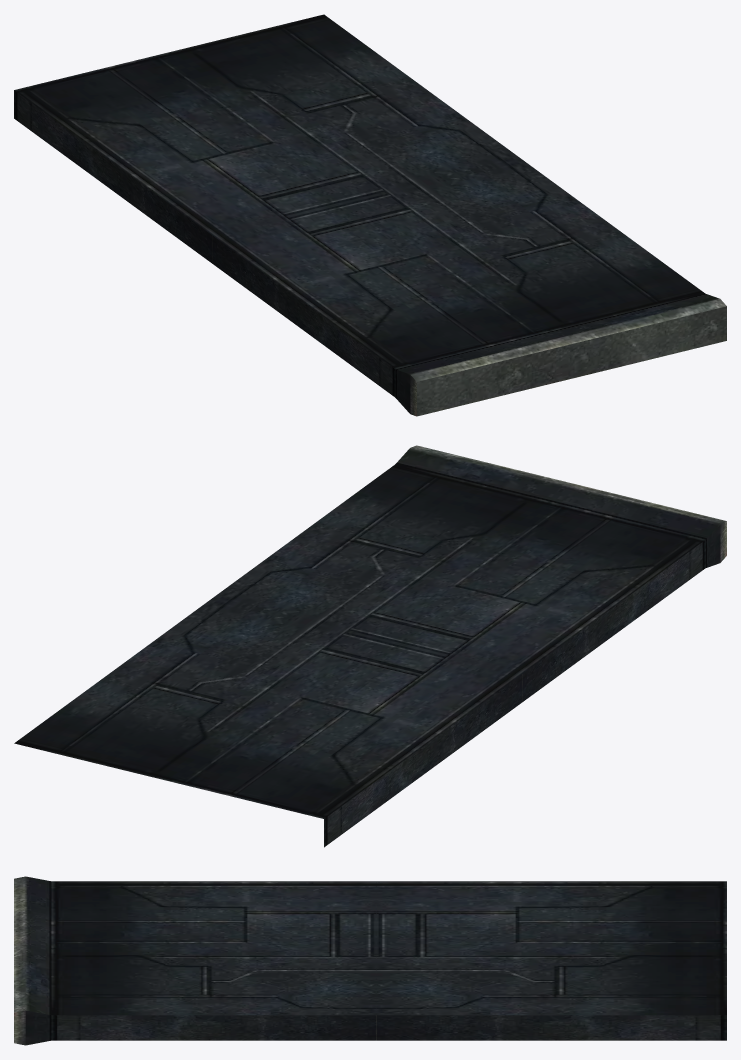
3 views of the same model, one above another, from view 1: azimuth 30°, elevation 25°; view 2: azimuth 150°, elevation 25°; view 3: azimuth 270°, elevation 25° (orthographic). The views are drawn at different scales.
Visible parts, largest first — view 1: model_Object04; view 2: model_Object04; view 3: model_Object04.
Part boxes in pixels (bbox=[...]): model_Object04: bbox=[14, 14, 726, 416]; model_Object04: bbox=[14, 445, 726, 847]; model_Object04: bbox=[14, 876, 726, 1045].
Bounding box in the file's own units: 5.02 × 0.6145 × 11.3.
Materials: 1 (1 with a texture image).
